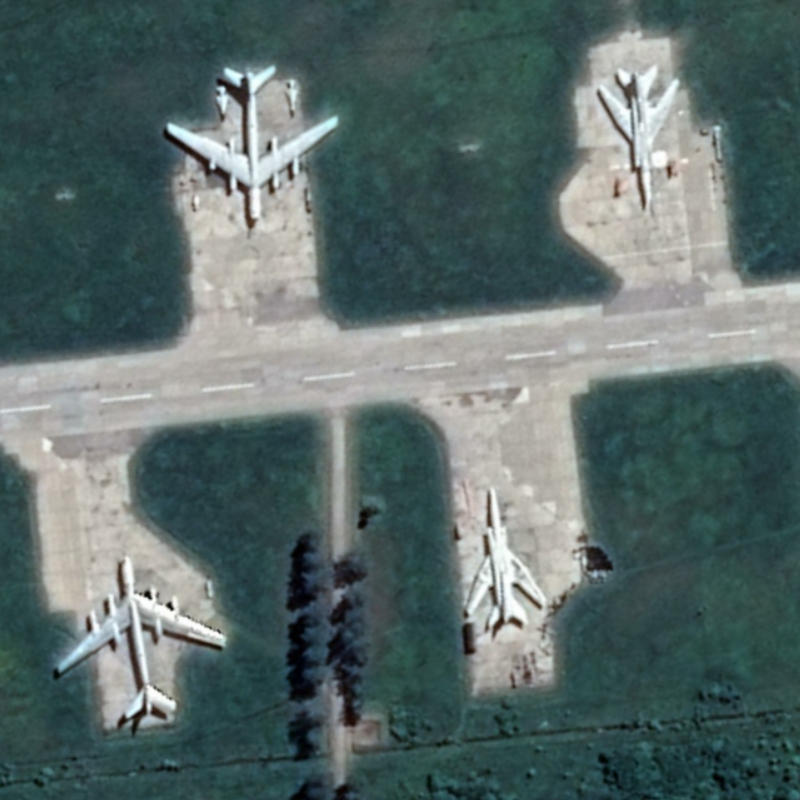A12: (462, 485, 548, 631), (596, 63, 682, 209)
A17: (54, 554, 229, 722), (165, 63, 341, 223)
